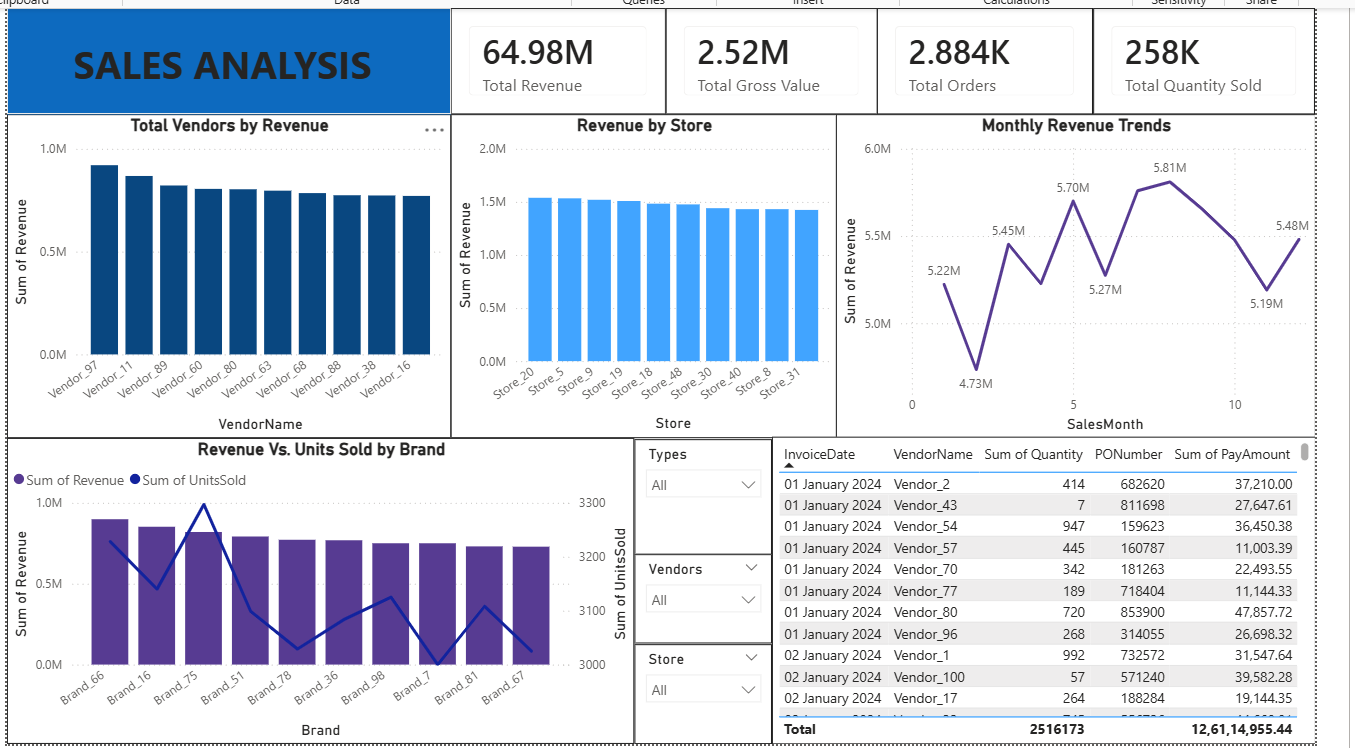

This screenshot's page, from the dashboard's own definition file:
{"tool":"powerbi","page":{"name":"SALES ANALYSIS","canvas":[1280,720],"ordinal":0},"visuals":[{"type":"cardVisual","fields":{"Data":["Sum(sales.SalesDollars)"]},"box":[434.3,0,210,104.3],"z":0},{"type":"cardVisual","fields":{"Data":["Sum(sales.SalesQuantity)"]},"box":[1062.9,0,217.1,104.3],"z":1000},{"type":"cardVisual","fields":{"Data":["Sum(sales.SalesPrice)"]},"box":[644.3,0,207.1,104.3],"z":2000},{"type":"cardVisual","fields":{"Data":["Count(sales.Description)"]},"box":[851.4,0,211.4,104.3],"z":3000},{"type":"lineChart","title":"Monthly Revenue Trends","fields":{"Y":["Sum(vw_MonthlyRevenue.Revenue)"],"Category":["vw_MonthlyRevenue.SalesMonth"]},"box":[810.7,103.9,469.6,317.9],"z":4000},{"type":"columnChart","title":"Total Vendors by Revenue","fields":{"Category":["vw_VendorRevenue.VendorName"],"Y":["Sum(vw_VendorRevenue.Revenue)"]},"box":[0,104.3,434.3,317.1],"z":5000},{"type":"lineStackedColumnComboChart","title":"Revenue Vs. Units Sold by Brand","fields":{"Category":["vw_BrandPerformance.Brand"],"Y":["Sum(vw_BrandPerformance.Revenue)"],"Y2":["Sum(vw_BrandPerformance.UnitsSold)"]},"box":[0,420.7,613.9,299.6],"z":6000},{"type":"columnChart","title":"Revenue by Store","fields":{"Category":["vw_StoreRevenue.Store"],"Y":["Sum(vw_StoreRevenue.Revenue)"]},"box":[434.1,103.9,377.9,316.7],"z":7000},{"type":"tableEx","fields":{"Values":["vendor_invoice.InvoiceDate","vendor_invoice.VendorName","Sum(vendor_invoice.Quantity)","vendor_invoice.PONumber","Sum(vendor_invoice.PayAmount)"]},"box":[748.4,419.4,531.9,300.8],"z":8000},{"type":"shape","box":[0,0,434.3,104.3],"z":9000},{"type":"textbox","box":[60,24.3,302.9,61.4],"z":10000},{"type":"slicer","fields":{"Values":["sales.VendorName"]},"box":[613.9,534.4,134.5,86.8],"z":11000},{"type":"slicer","fields":{"Values":["sales.Store"]},"box":[613.9,622.4,134.5,97.8],"z":12000},{"type":"slicer","fields":{"Values":["sales.Classification"]},"box":[613.9,421.9,134.5,112.5],"z":13000}]}

Visuals, with their boxes in screenshot pixels (x1, y1, x2, y2):
cardVisual - Sum(sales.SalesDollars): (445, 4, 660, 110)
cardVisual - Sum(sales.SalesQuantity): (1089, 4, 1312, 110)
cardVisual - Sum(sales.SalesPrice): (660, 4, 872, 110)
cardVisual - Count(sales.Description): (872, 4, 1089, 110)
"Monthly Revenue Trends" lineChart: (831, 110, 1312, 436)
"Total Vendors by Revenue" columnChart: (0, 110, 445, 435)
"Revenue Vs. Units Sold by Brand" lineStackedColumnComboChart: (0, 435, 629, 742)
"Revenue by Store" columnChart: (445, 110, 832, 434)
tableEx - vendor_invoice.InvoiceDate x vendor_invoice.VendorName: (767, 433, 1312, 741)
shape: (0, 4, 445, 110)
textbox: (61, 28, 372, 91)
slicer - sales.VendorName: (629, 551, 767, 640)
slicer - sales.Store: (629, 641, 767, 741)
slicer - sales.Classification: (629, 436, 767, 551)
